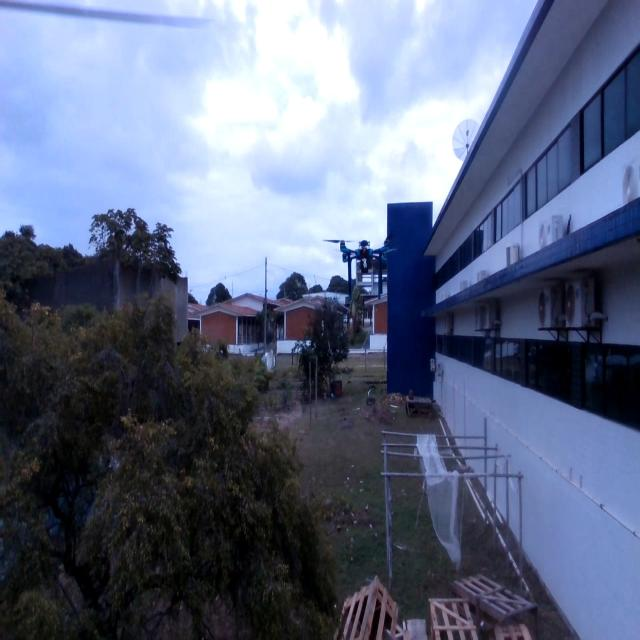-uav-: (314, 216, 411, 313)
